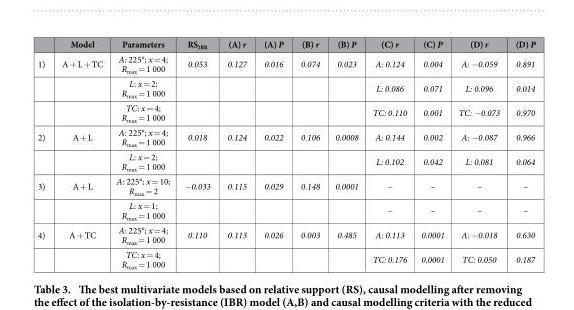table: (36, 37, 534, 270)
table column: (108, 37, 176, 270), (52, 37, 108, 270), (450, 37, 506, 270), (364, 37, 413, 270), (176, 37, 218, 270), (326, 37, 364, 270), (254, 37, 291, 270), (413, 37, 450, 270), (218, 37, 254, 270), (291, 37, 326, 270), (506, 37, 534, 270), (36, 37, 52, 270)
table column header: (36, 37, 534, 51)
table row: (36, 75, 534, 100), (36, 124, 534, 149), (36, 173, 534, 198), (36, 51, 534, 75), (36, 100, 534, 124), (36, 149, 534, 173), (36, 198, 534, 222), (36, 222, 534, 246), (36, 246, 534, 270), (36, 37, 534, 51)
table spanning cell: (36, 51, 52, 124), (36, 124, 52, 173), (36, 173, 52, 222), (36, 222, 52, 270)
